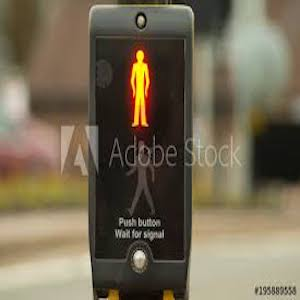red: (113, 46, 164, 133)
